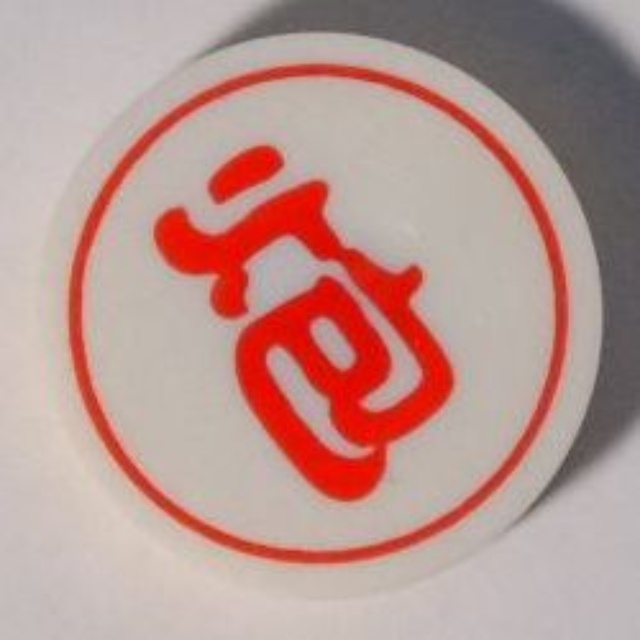red_phao: (38, 27, 615, 597)
